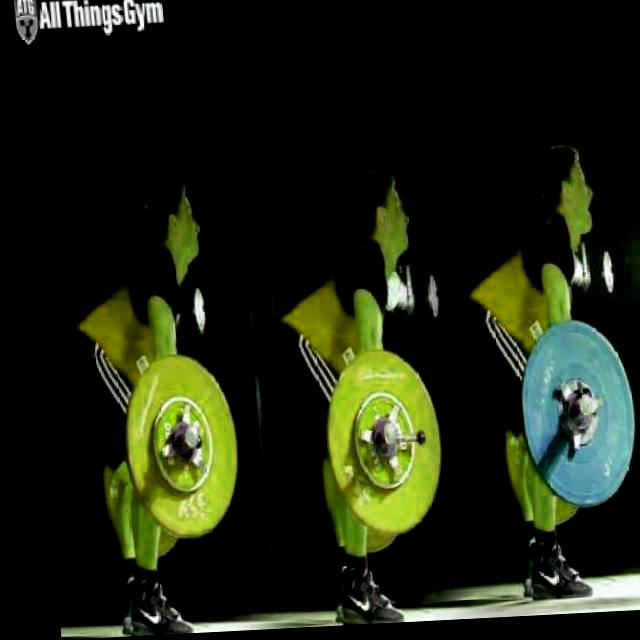barbell: (504, 317, 637, 517), (308, 347, 440, 545), (108, 352, 237, 542)
